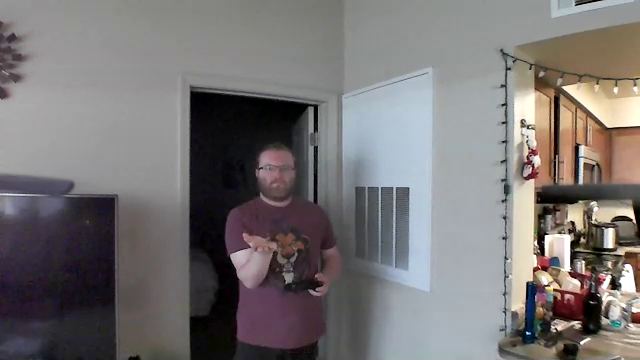land: (241, 230, 279, 254)
